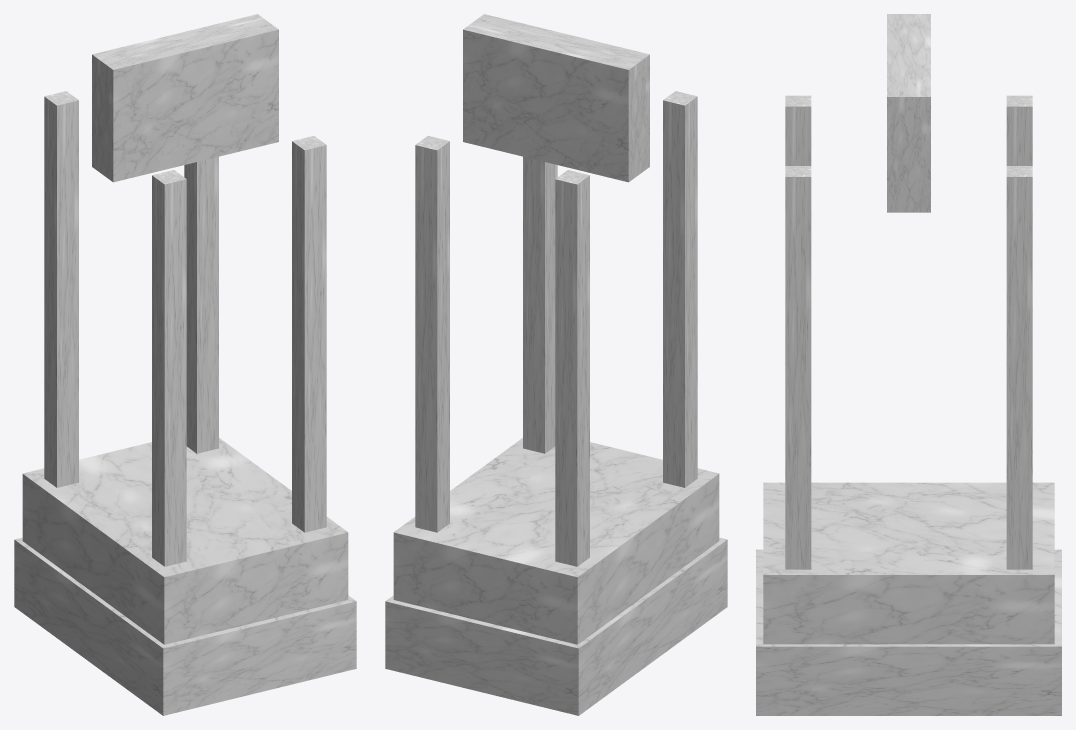
Rendered from sanctuary_of_vulcan.obj.
3 views of the same model, side by side, from view 1: azimuth 30°, elevation 25°; view 2: azimuth 150°, elevation 25°; view 3: azimuth 270°, elevation 25° (orthographic). The views are drawn at different scales.
Parts seen in each view (by area): view 1: building; view 2: building; view 3: building.
Boxes of the visible parts, x1=… form: building: x1=14, y1=14, x2=356, y2=715; building: x1=385, y1=14, x2=727, y2=715; building: x1=756, y1=14, x2=1061, y2=715.
Bounding box in the file's own units: 3.15 × 9.27 × 4.2.
